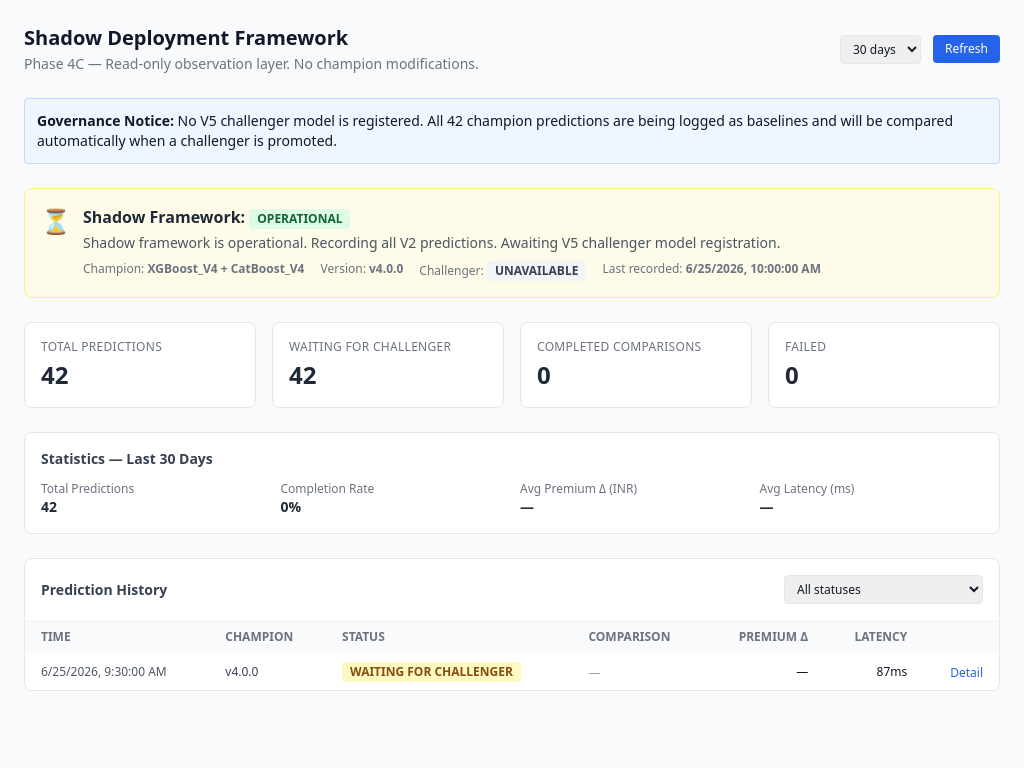
it: ShadowPanel › opens detail drawer on row click
This screenshot has width=1024, height=768.
Click the row with test id "shadow-history-row".
click(512, 672)  # box [25,653,999,690]
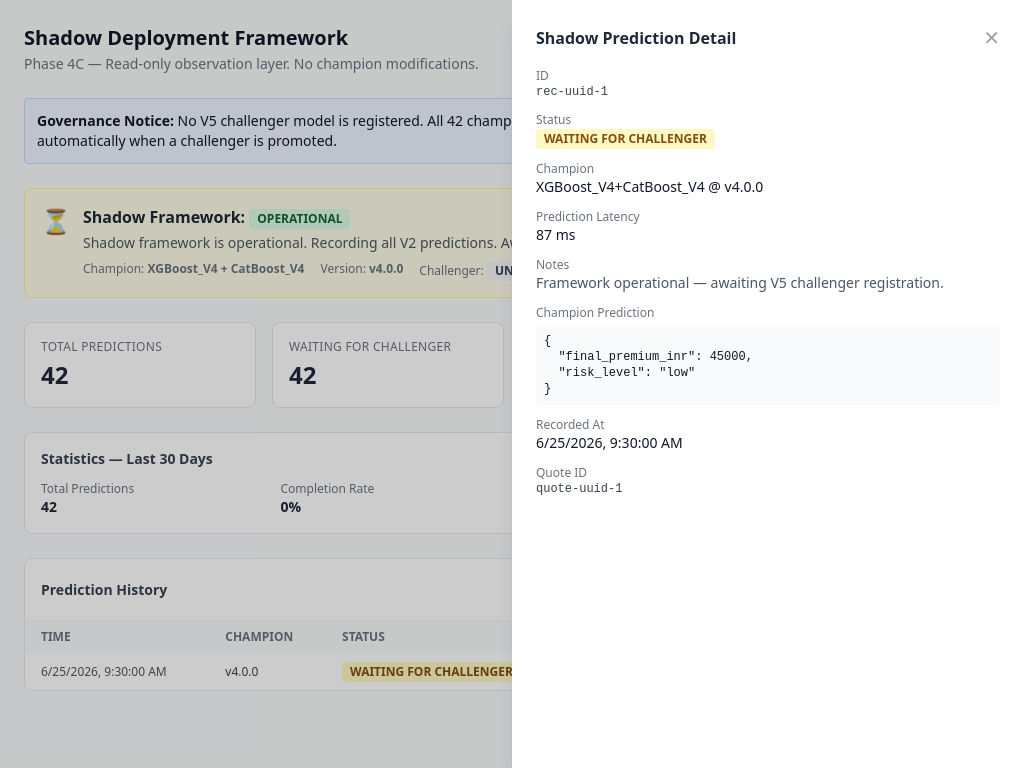
Check: the element with test id "shadow-detail-drawer" is shown
